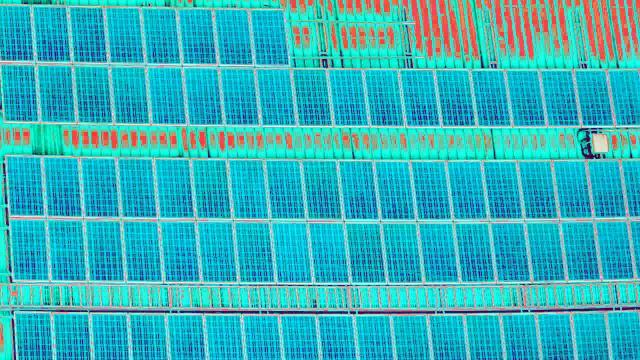dirty: (121, 219, 158, 280), (159, 219, 196, 280), (199, 221, 236, 282), (233, 221, 270, 282), (272, 222, 309, 283), (312, 222, 346, 283), (347, 221, 381, 282), (387, 222, 421, 283), (422, 221, 456, 282), (458, 221, 492, 282), (494, 221, 528, 282), (529, 220, 563, 281), (562, 219, 596, 280), (599, 218, 633, 279), (112, 66, 149, 122), (31, 6, 67, 62), (69, 5, 105, 61), (107, 7, 143, 63), (142, 8, 178, 64), (180, 8, 216, 64), (217, 8, 253, 64), (251, 9, 287, 65), (76, 65, 112, 121), (148, 67, 184, 123), (187, 68, 223, 124), (222, 68, 258, 124), (259, 68, 295, 124), (295, 68, 331, 124), (330, 69, 366, 125), (365, 70, 401, 126), (402, 71, 438, 127), (437, 70, 473, 126), (473, 70, 509, 126), (508, 69, 544, 125), (541, 70, 577, 126), (575, 70, 611, 126), (6, 159, 42, 215), (44, 158, 80, 214), (82, 158, 118, 214), (117, 159, 153, 215), (156, 160, 192, 216), (194, 161, 230, 217), (230, 161, 266, 217), (38, 64, 73, 120), (269, 160, 302, 219), (306, 159, 339, 218), (343, 160, 376, 219), (380, 160, 413, 219), (415, 160, 448, 219), (451, 160, 484, 219), (487, 161, 520, 220), (520, 159, 553, 218), (555, 160, 588, 219), (592, 160, 625, 219), (12, 220, 45, 279), (51, 220, 84, 279), (87, 219, 120, 278), (1, 62, 35, 118), (15, 312, 52, 359), (54, 313, 91, 360), (90, 313, 127, 360), (129, 313, 166, 360), (166, 313, 203, 360), (206, 313, 243, 360), (242, 313, 279, 360), (278, 313, 315, 360), (320, 313, 357, 360), (355, 313, 392, 360), (395, 313, 432, 360), (427, 313, 464, 360), (466, 313, 503, 360), (502, 313, 539, 360), (538, 313, 575, 360), (572, 313, 609, 360)
